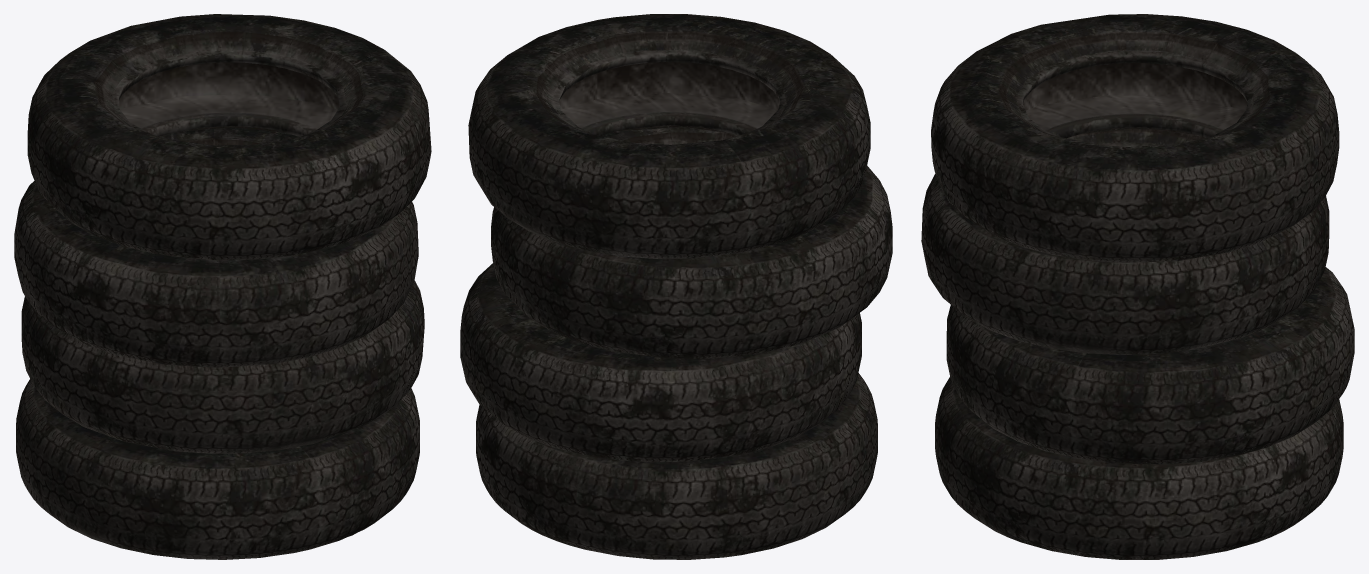
Rendered from old_tyre.glb.
The picture shows the model from 3 angles, left to right: view 1: azimuth 30°, elevation 25°; view 2: azimuth 150°, elevation 25°; view 3: azimuth 270°, elevation 25°; orthographic projection.
Visible parts, largest first — view 1: tyre_stack4_LOD0, tyre_LOD0; view 2: tyre_stack4_LOD0, tyre_LOD0; view 3: tyre_stack4_LOD0, tyre_LOD0.
Part boxes in pixels (box(x1,y1,x2,y2)): tyre_stack4_LOD0: box(14, 14, 431, 557); tyre_LOD0: box(16, 379, 419, 559); tyre_stack4_LOD0: box(460, 14, 892, 554); tyre_LOD0: box(476, 373, 877, 559); tyre_stack4_LOD0: box(921, 14, 1354, 559); tyre_LOD0: box(935, 377, 1343, 559).
Size of what is drawn, in the model's own units: 0.631 by 0.6541 by 0.636.
Materials: 1 (1 with a texture image).
